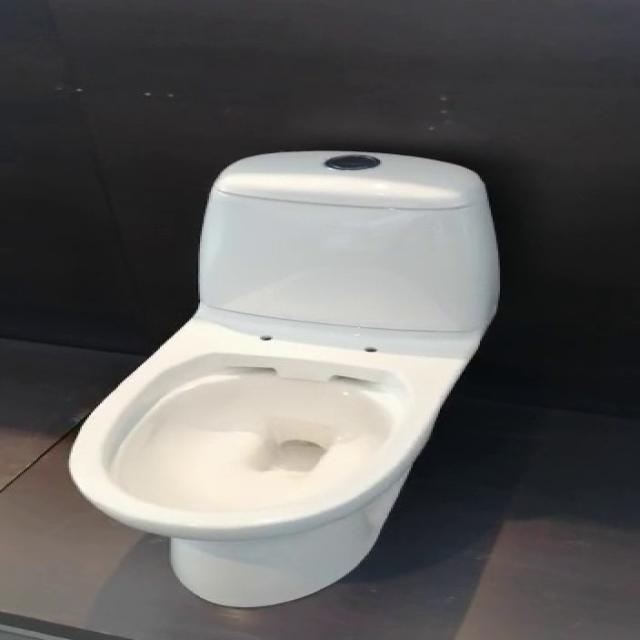toilet: (65, 150, 500, 608)
